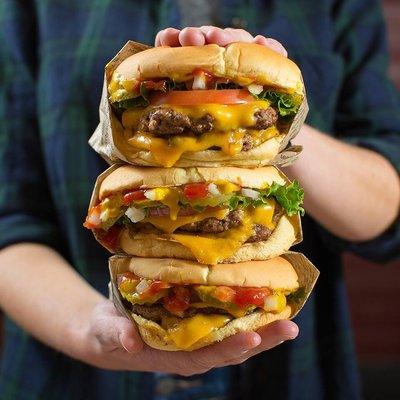soup: (83, 164, 322, 353), (101, 26, 308, 170), (101, 252, 321, 352)
